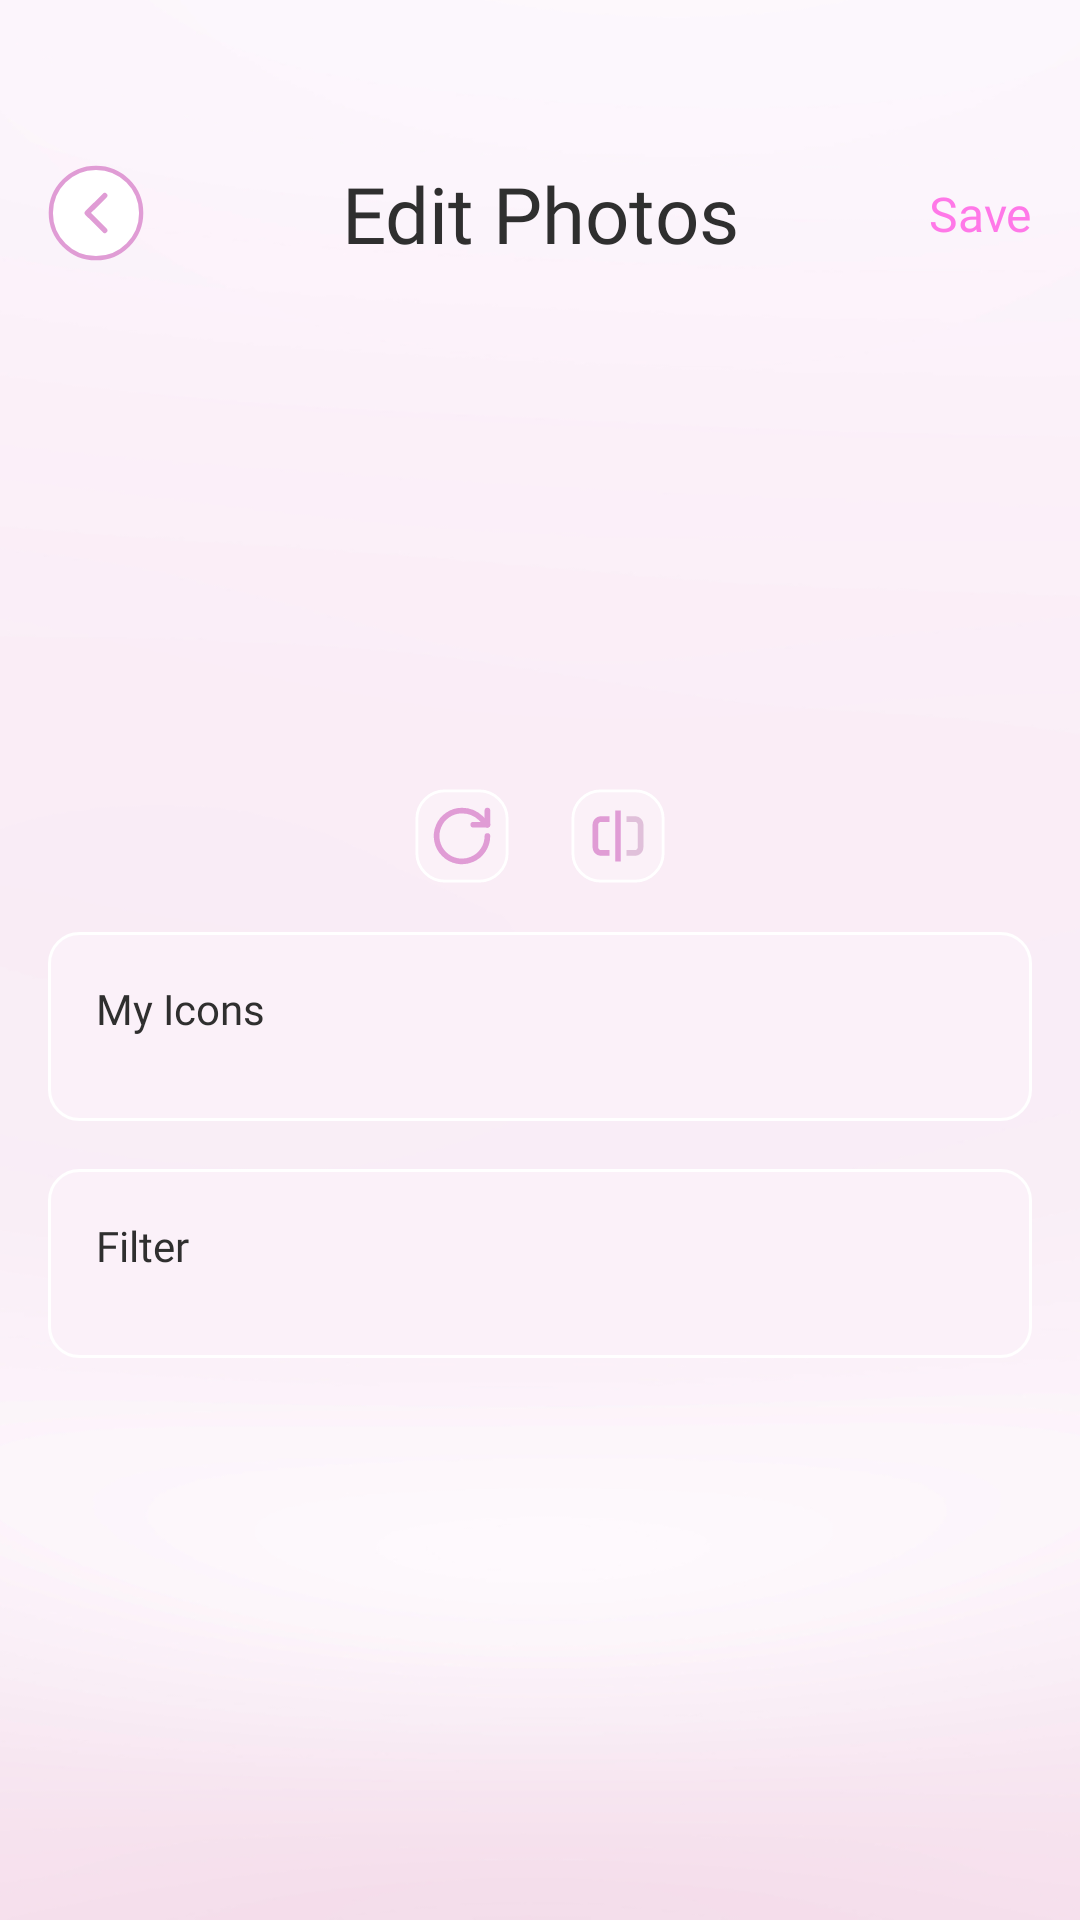

Icons on this 1080 x 1920 Android screen, each with the point to tap as point (x, y):
imv back: point (96, 213)
reset: point (462, 836)
